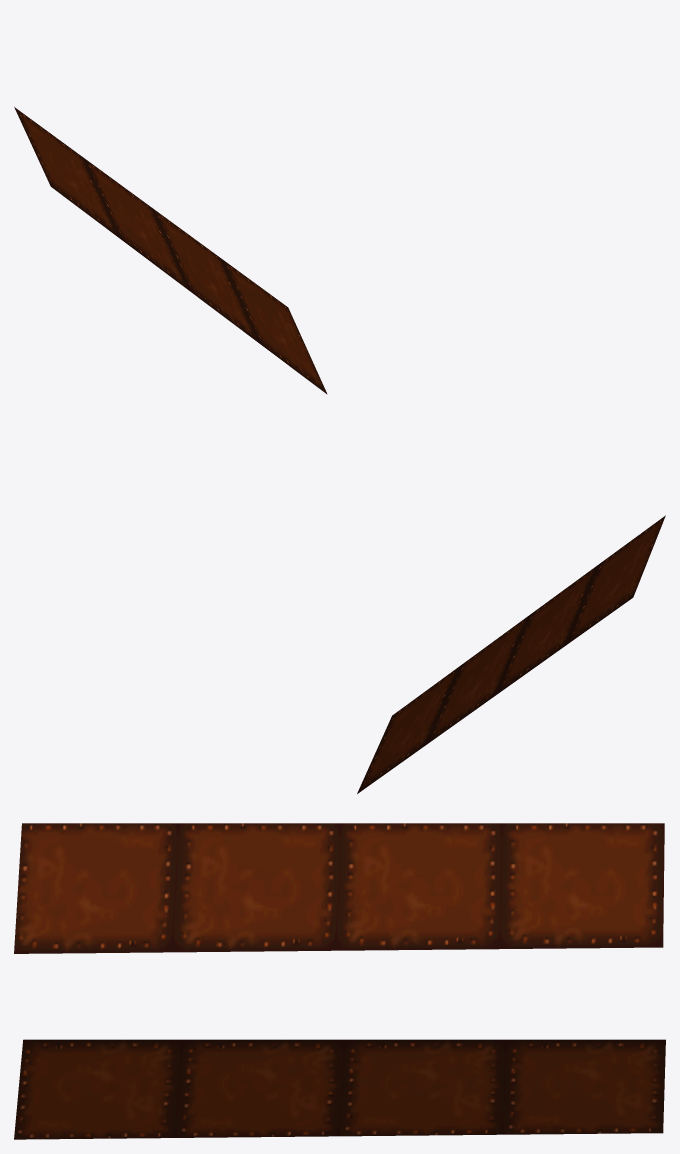
Rendered from Schiff_Mitte5_1257.glb.
The picture shows the model from 3 angles, top to bottom: view 1: azimuth 30°, elevation 25°; view 2: azimuth 150°, elevation 25°; view 3: azimuth 270°, elevation 25°; orthographic projection. The views are drawn at different scales.
Visible parts, largest first — view 1: pPlaneShape18; view 2: pPlaneShape18; view 3: pPlaneShape18, pPlaneShape39.
Part boxes in pixels (x1,y1,x2,y2): pPlaneShape18: (14,107,327,394); pPlaneShape18: (357,515,665,793); pPlaneShape18: (14,823,664,953); pPlaneShape39: (14,1039,665,1139).
Size of the model in its own units: 2.37 by 0.5622 by 3.02.
Materials: 2 (2 with a texture image).
